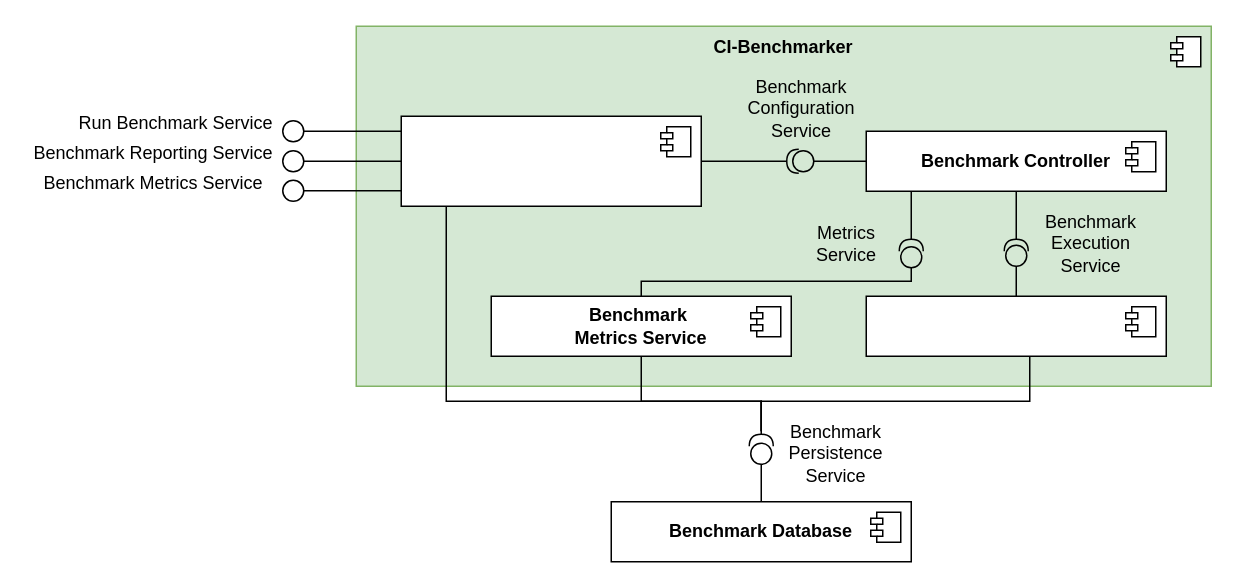
The diagram is 1238 pixels wide and 588 high, and some of its shapes have lost their labels. Each missing label, with the centre of its shape:
Benchmark Executor: the point at 1015,325
Benchmark Router: the point at 550,160
